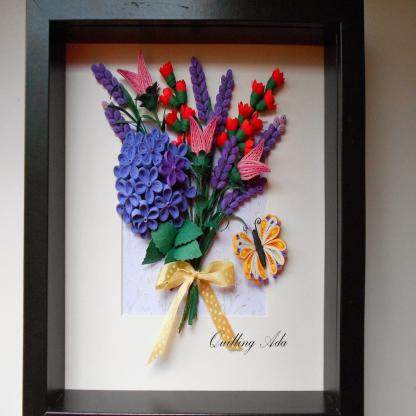Picture-frame: (26, 1, 367, 416)
